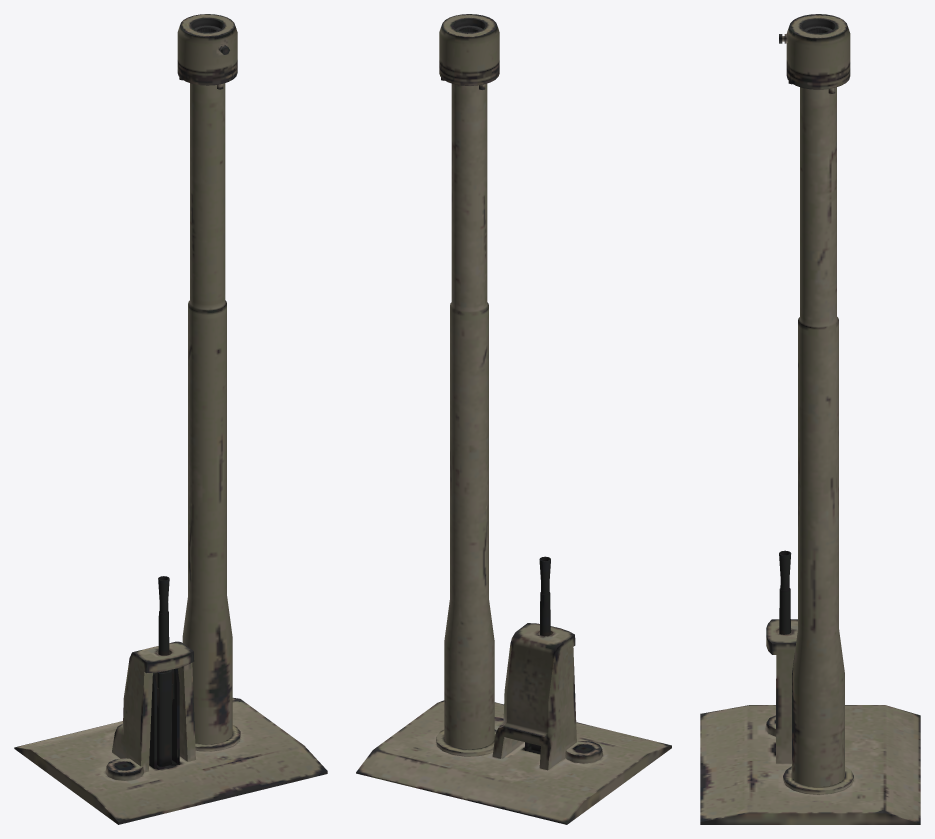
File: Gun_08.glb
3 renders of one model, left to right at view 1: azimuth 30°, elevation 25°; view 2: azimuth 150°, elevation 25°; view 3: azimuth 270°, elevation 25°, orthographic. The views are drawn at different scales.
Visible parts, largest first — view 1: set_0_group_0; view 2: set_0_group_0; view 3: set_0_group_0.
Boxes of the visible parts, left/top/right/bottom form: set_0_group_0: left=14, top=14, right=327, bottom=824; set_0_group_0: left=356, top=14, right=671, bottom=824; set_0_group_0: left=700, top=14, right=920, bottom=824.
Size of the model in its own units: 0.6513 by 2.15 by 0.561.
1 material, 1 textured.
